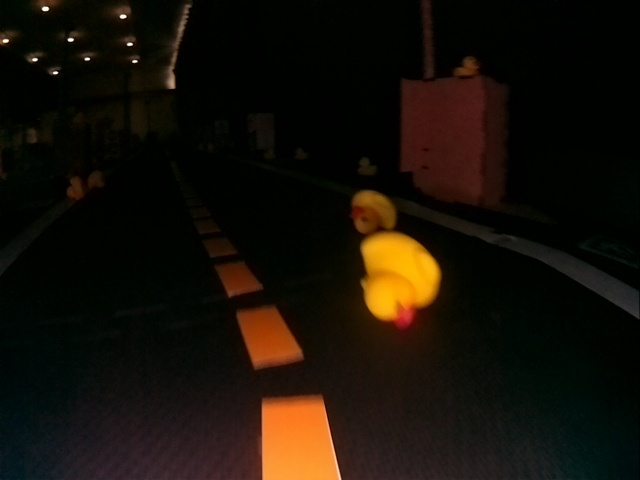Duckie: (359, 233, 441, 322), (354, 191, 394, 234), (457, 56, 479, 74), (67, 177, 83, 199), (359, 157, 376, 174), (88, 169, 101, 188)
